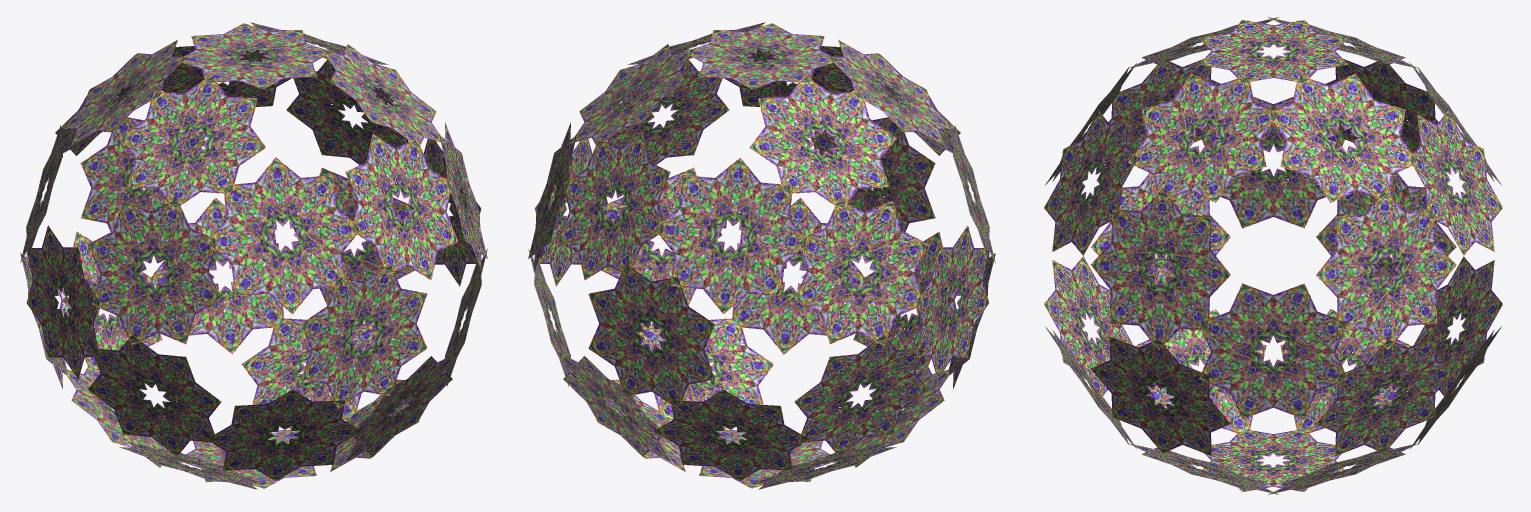
The model's file is 24TruncatedDodecadodecahedron.gltf.
3 renders of one model, left to right at view 1: azimuth 30°, elevation 25°; view 2: azimuth 150°, elevation 25°; view 3: azimuth 270°, elevation 25°, orthographic. The views are drawn at different scales.
Visible parts, largest first — view 1: 1TruncatedDodecadodecahedron; view 2: 1TruncatedDodecadodecahedron; view 3: 1TruncatedDodecadodecahedron.
Boxes of the visible parts, x1,y1,x2,y2 form: 1TruncatedDodecadodecahedron: (20, 22, 487, 489); 1TruncatedDodecadodecahedron: (528, 22, 995, 489); 1TruncatedDodecadodecahedron: (1044, 17, 1502, 494).
Size of the model in its own units: 3.24 by 3.24 by 3.24.
Materials: 1 (1 with a texture image).
